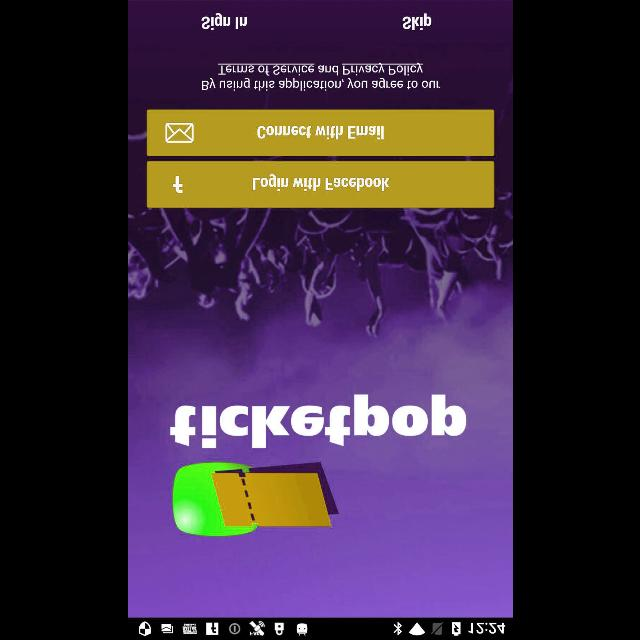backgroundimage: (128, 0, 512, 618)
image: (172, 460, 338, 536)
text: (170, 394, 466, 448), (201, 63, 439, 91), (200, 13, 246, 31), (402, 14, 431, 31)
textbutton: (146, 110, 494, 156), (146, 161, 494, 207)
uppertaskbar: (128, 617, 512, 639)
